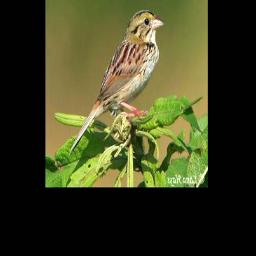Sparrow: (67, 7, 166, 158)
